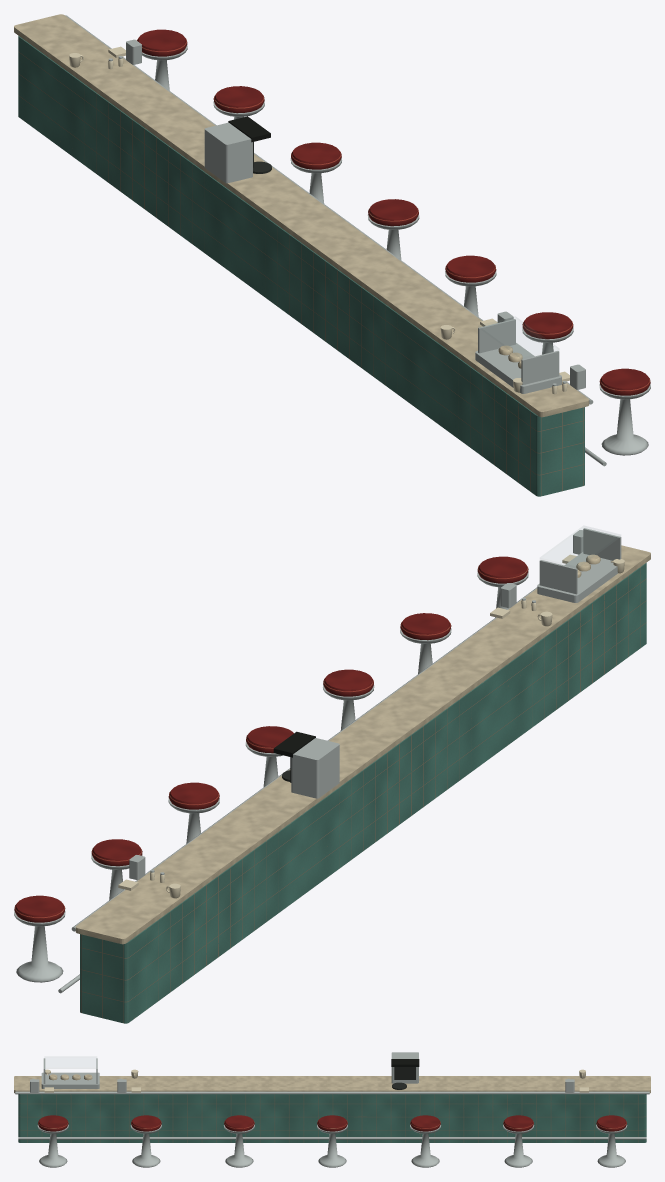
Rendered from SM_Mesa_Counter.fbx.
The picture shows the model from 3 angles, top to bottom: view 1: azimuth 30°, elevation 25°; view 2: azimuth 150°, elevation 25°; view 3: azimuth 270°, elevation 25°; orthographic projection. The views are drawn at different scales.
Visible parts, largest first — view 1: SM_Mesa_Counter; view 2: SM_Mesa_Counter; view 3: SM_Mesa_Counter.
Part boxes in pixels (box(x1,y1,x2,y2)): SM_Mesa_Counter: box(14, 14, 650, 496); SM_Mesa_Counter: box(14, 528, 650, 1023); SM_Mesa_Counter: box(14, 1052, 650, 1167).
Size of the model in its own units: 1.68 by 10.95 by 1.46.
